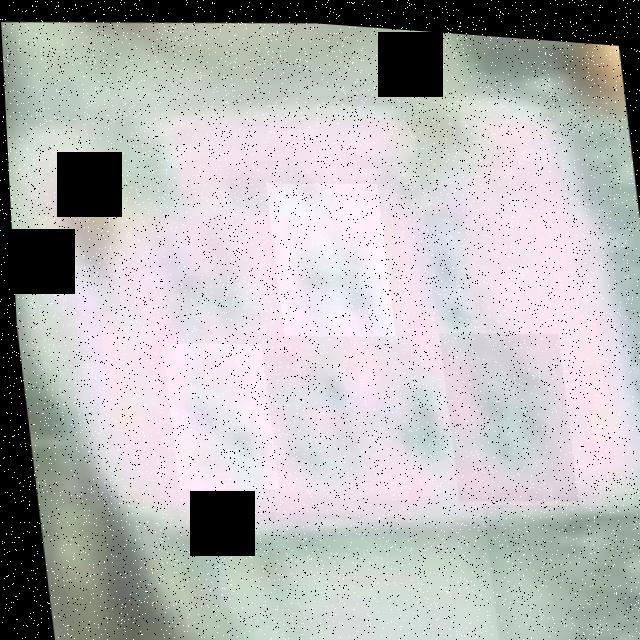3: (476, 484, 640, 640)
5: (435, 318, 573, 501), (158, 334, 274, 491)
B: (263, 171, 392, 338), (140, 169, 261, 339)
